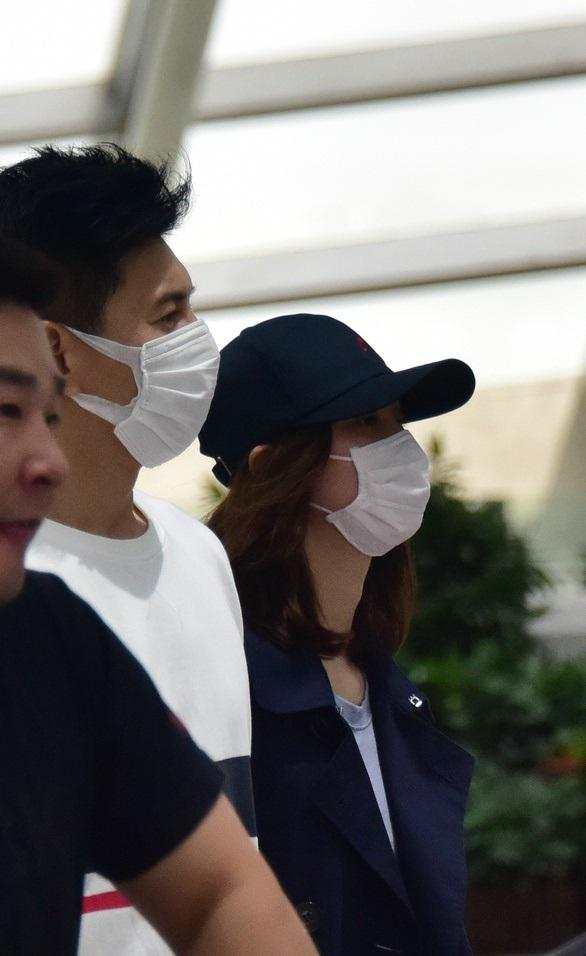NONE: (1, 343, 82, 606)
OK: (95, 263, 219, 470), (314, 389, 437, 555)
